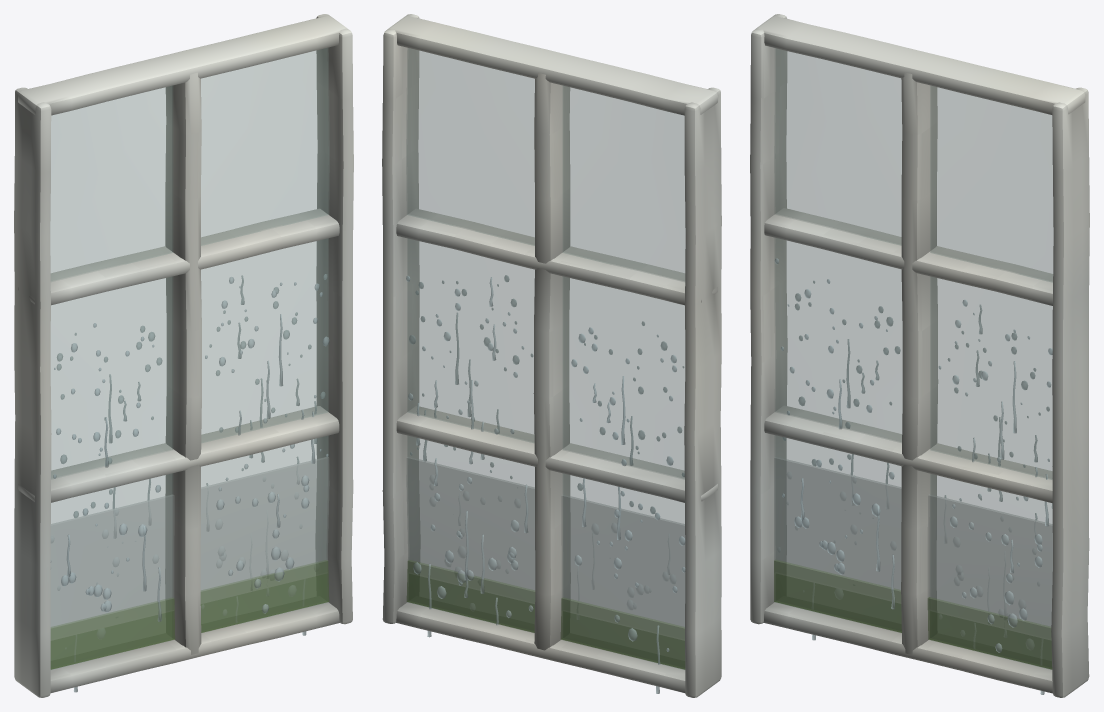
The model's file is canopy_glass_wall.glb.
The picture shows the model from 3 angles, left to right: view 1: azimuth 30°, elevation 25°; view 2: azimuth 150°, elevation 25°; view 3: azimuth 330°, elevation 25°; orthographic projection.
Parts seen in each view (by area): view 1: canopy_glass_wall; view 2: canopy_glass_wall; view 3: canopy_glass_wall.
Boxes of the visible parts, left/top/right/bottom form: canopy_glass_wall: left=14, top=14, right=353, bottom=697; canopy_glass_wall: left=382, top=14, right=721, bottom=697; canopy_glass_wall: left=750, top=14, right=1089, bottom=697.
Bounding box in the file's own units: 20.11 × 36.9 × 3.01.
